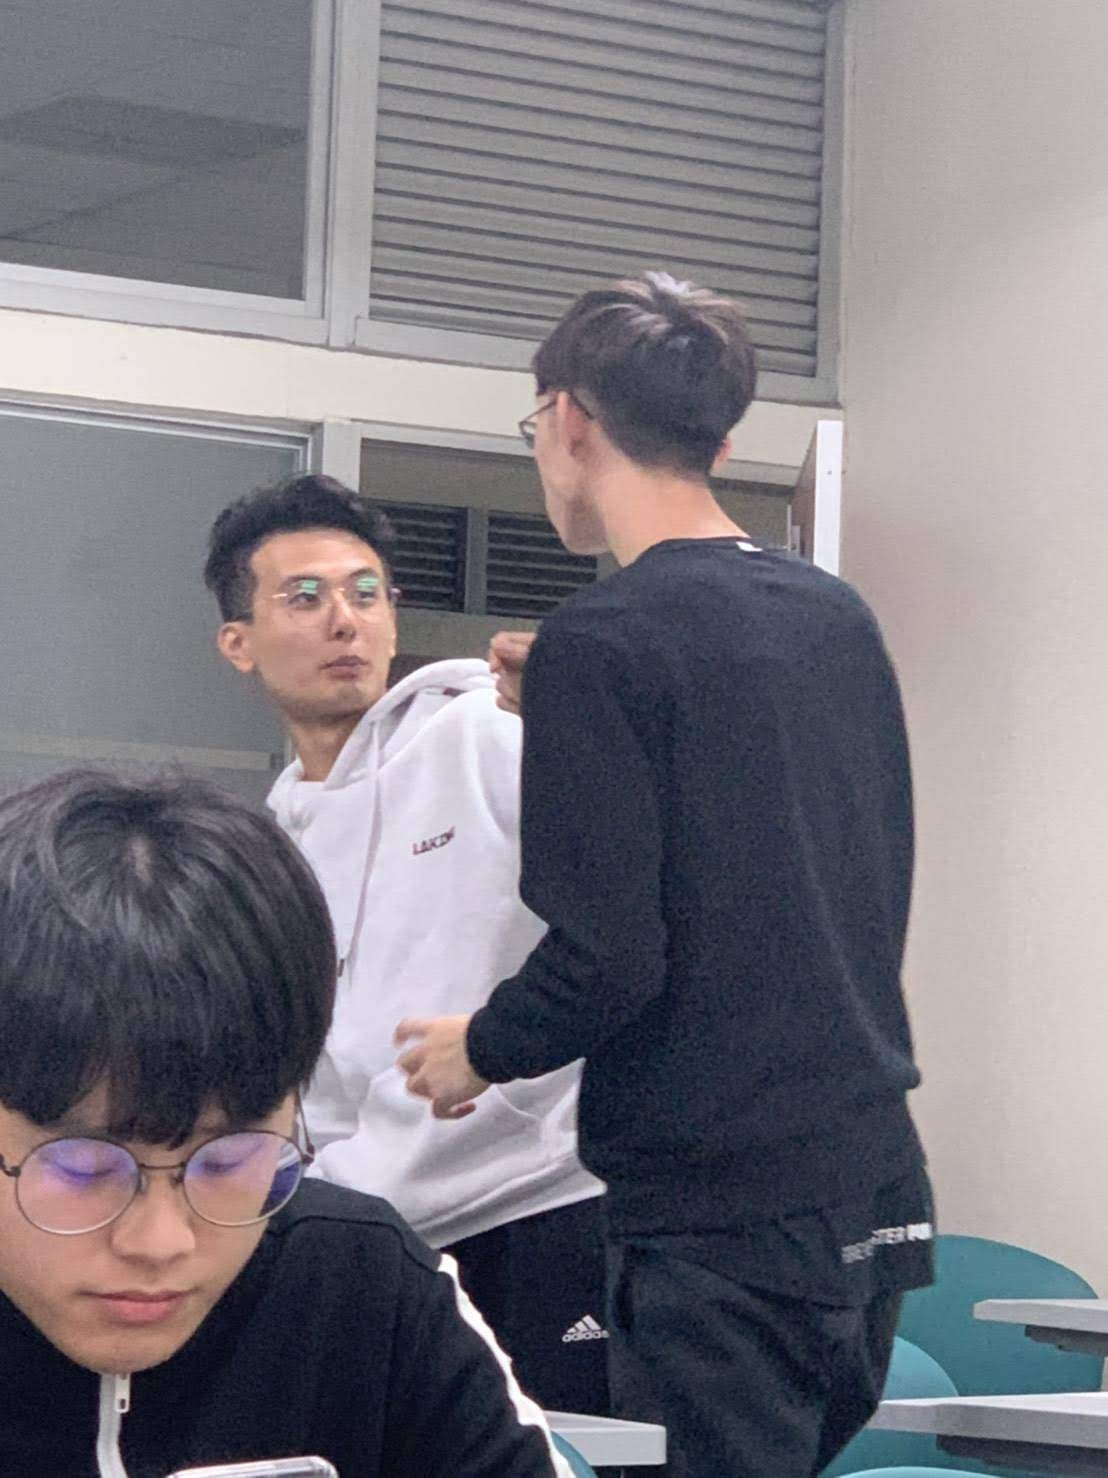people: (533, 273, 900, 1478), (12, 752, 395, 1478), (207, 483, 531, 1188)
